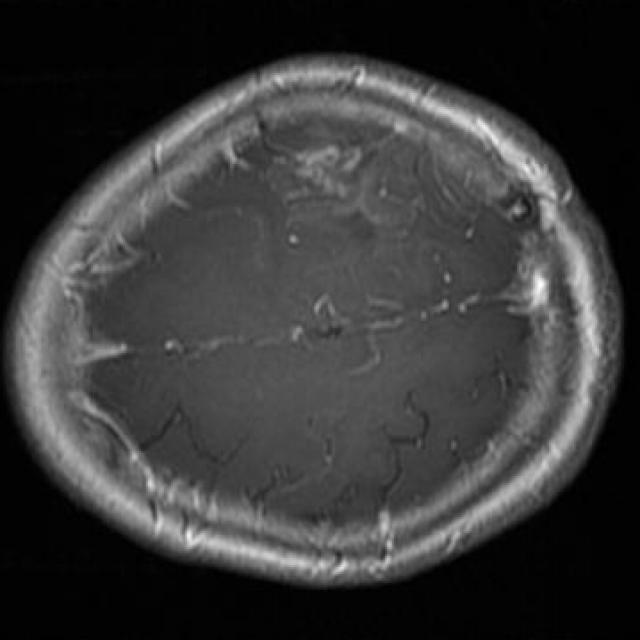glioma: (266, 127, 467, 235)
